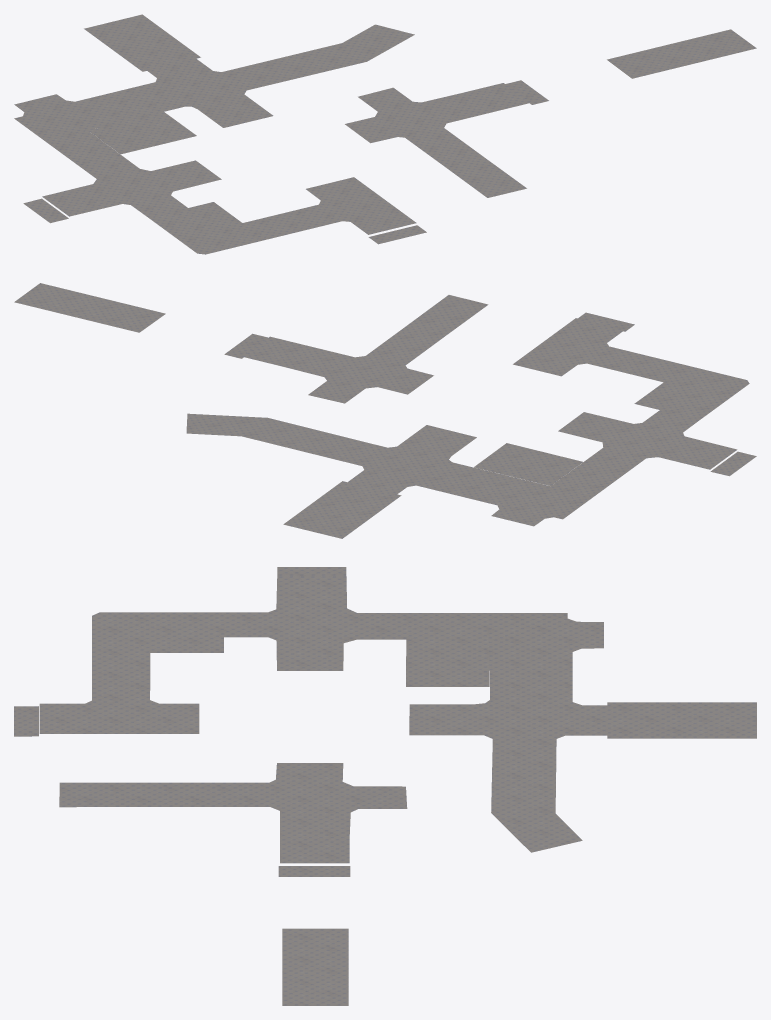
Rendered from scene_luoliante_cd01.FBX.
3 views of the same model, one above another, from view 1: azimuth 30°, elevation 25°; view 2: azimuth 150°, elevation 25°; view 3: azimuth 270°, elevation 25° (orthographic). The views are drawn at different scales.
Parts seen in each view (by area): view 1: scene_luoliante_cd01; view 2: scene_luoliante_cd01; view 3: scene_luoliante_cd01.
Boxes of the visible parts, <box> form: scene_luoliante_cd01: <box>14,14,756,254</box>; scene_luoliante_cd01: <box>14,283,756,538</box>; scene_luoliante_cd01: <box>14,567,756,1005</box>.
Bounding box in the file's own units: 6432 × 17.51 × 4598.
1 material, 1 textured.
